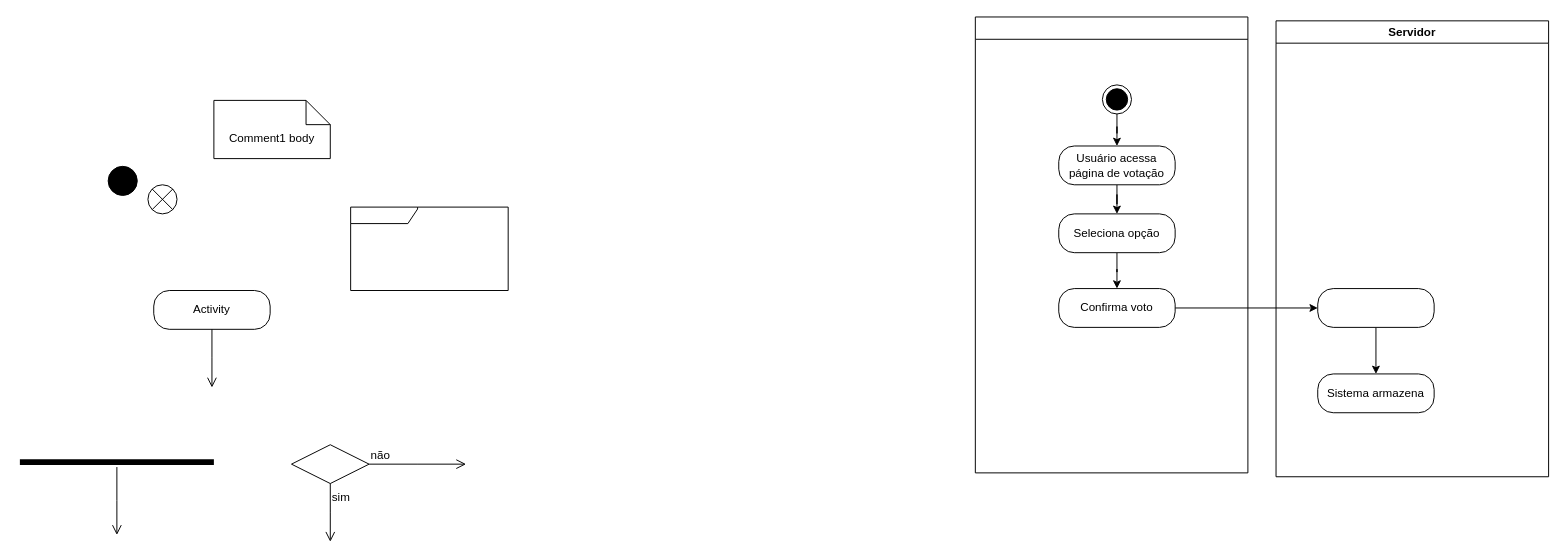
The diagram is 1566 pixels wide and 558 high, and some of its shapes have lost their labels. The shapes that lost their labels are listed below. From the top down, each one's centre as x and y in pixels, then its label:
At pixel 429 248: "Loop".
At pixel 1111 244: "Cliente".
At pixel 1375 307: "Sistema escuta voto".
At pixel 330 464: "Condition".
